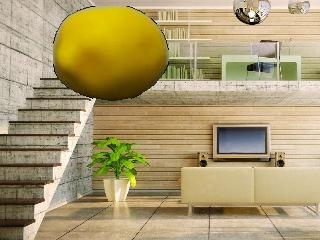lemon: (51, 4, 172, 102)
